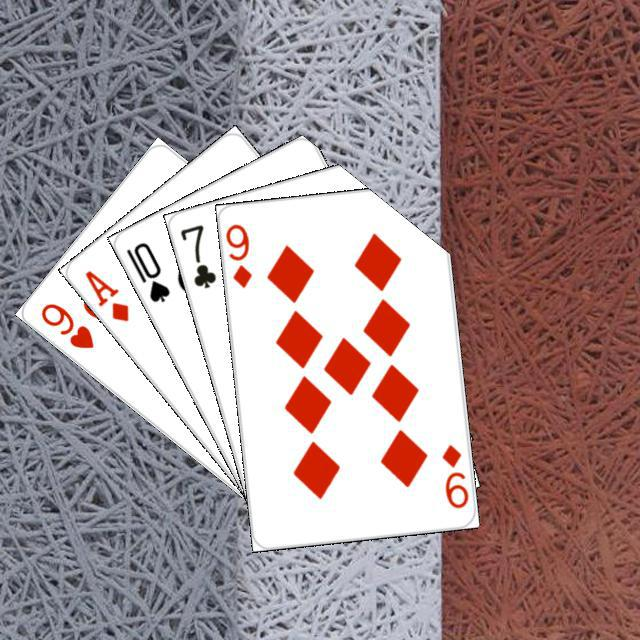10s: (121, 237, 172, 305)
7c: (175, 219, 218, 291)
9d: (436, 439, 470, 510), (222, 219, 253, 290)
9h: (35, 298, 96, 351)
Ad: (79, 265, 131, 323)
